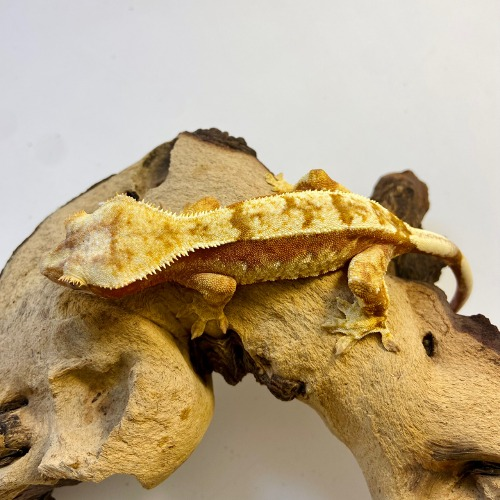analyzer_lateral: (178, 229, 412, 285)
